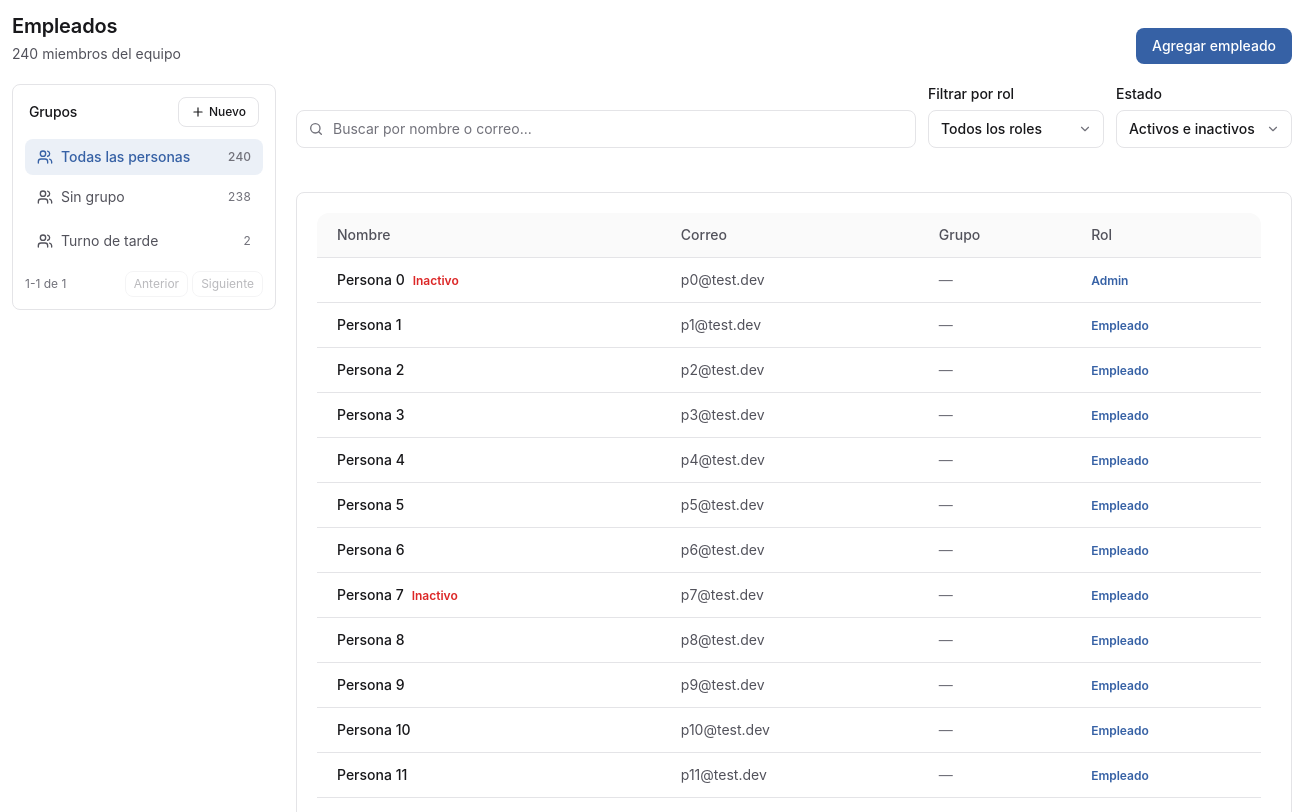
it: Employees at scale › filters by group on the server, and the rail is where it lives
What coordinates should you click on to do the following:
click the button "Turno de tarde 2"
I would click on:
 (144, 241)
Its box is [25, 223, 263, 259].
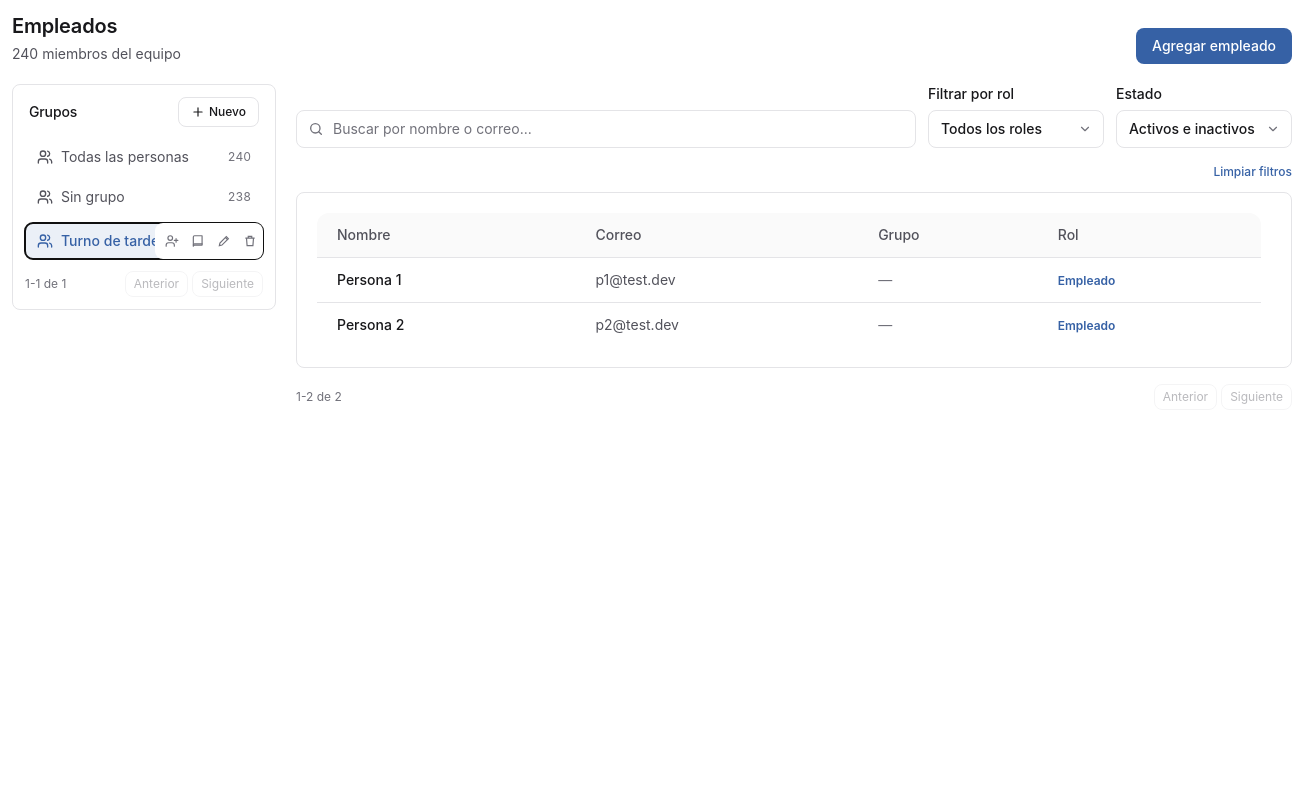
Expected: the text "1-2 de 2" is shown, [296, 389, 342, 405]
